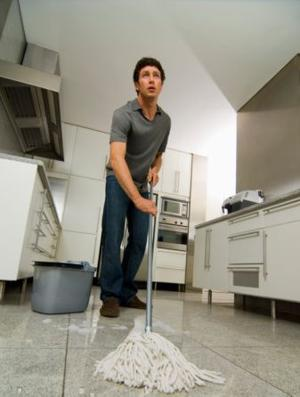person: (101, 58, 172, 320)
